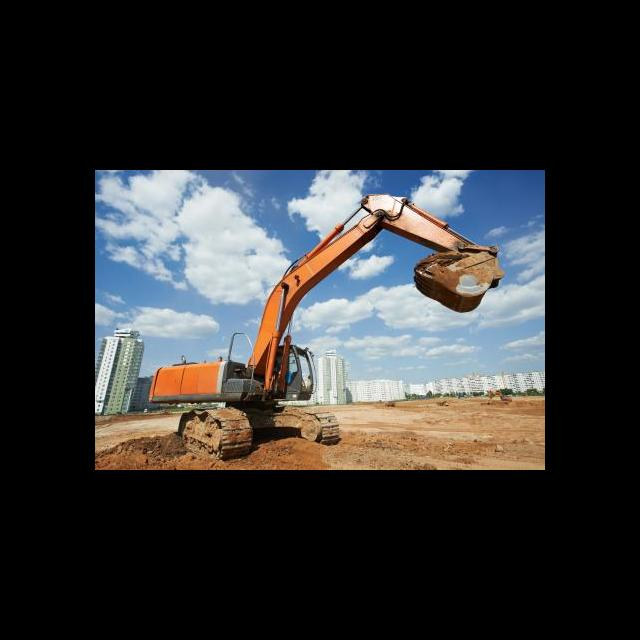Excavator: (148, 192, 506, 459)
